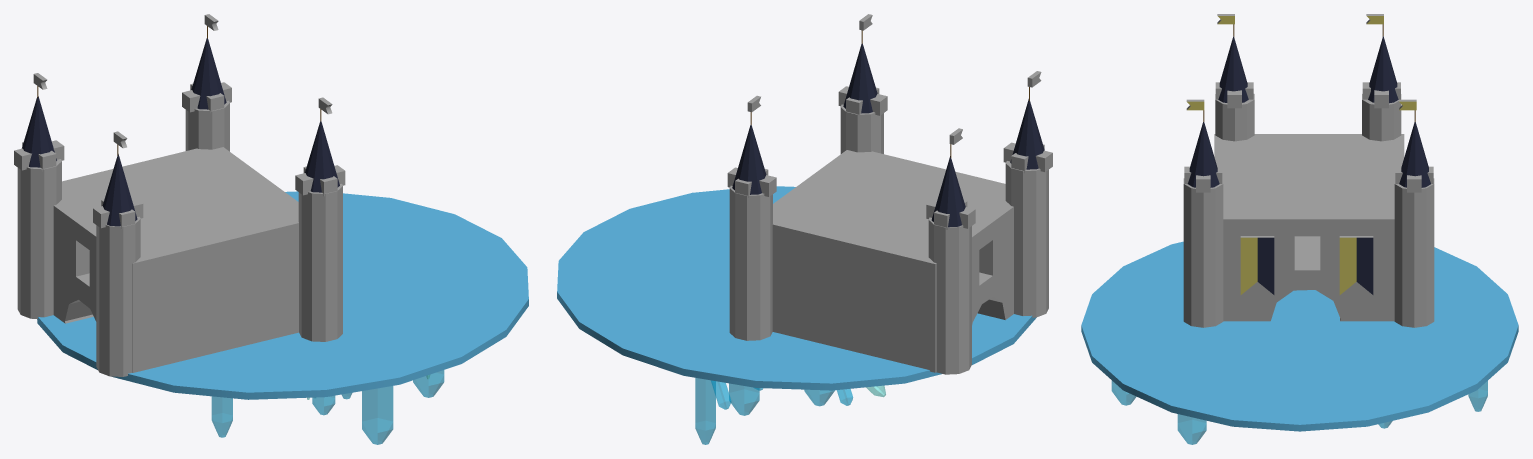
File: Castle.fbx
3 renders of one model, left to right at view 1: azimuth 30°, elevation 25°; view 2: azimuth 150°, elevation 25°; view 3: azimuth 270°, elevation 25°, orthographic. The views are drawn at different scales.
Visible parts, largest first — view 1: pCylinder277, pCube91, pCylinder290, pCylinder295, pCylinder296, pCylinder291, pCylinder231, pCone7, pCone5, pCone6, pCone8, pCylinder232 (+1 smaller); view 2: pCube91, pCylinder277, pCylinder291, pCylinder296, pCylinder295, pCylinder290, pCylinder230, pCone8, pCone6, pCone5, pCone7, pCylinder229; view 3: pCylinder277, pCube91, pCylinder290, pCylinder291, pCube108, pCube109, pCylinder295, pCylinder296, pCone5, pCone6, pCone7, pCone8 (+1 smaller).
Boxes of the visible parts, x1,y1,x2,y2 form: pCylinder277: (37,191,528,399); pCube91: (53,147,298,372); pCylinder290: (298,184,342,341); pCylinder295: (96,216,140,376); pCylinder296: (17,159,61,318); pCylinder291: (185,100,229,151); pCylinder231: (362,386,393,444); pCone7: (102,154,137,226); pCone5: (305,121,339,192); pCone6: (191,38,226,109); pCone8: (22,96,56,167); pCylinder232: (211,396,232,437); pCube91: (772,150,1013,372); pCylinder277: (557,186,1036,390); pCylinder291: (729,185,772,340); pCylinder296: (928,217,971,374); pCylinder295: (1005,161,1048,317); pCylinder290: (840,104,883,153); pCylinder230: (695,378,715,444); pCone8: (931,156,965,227); pCone6: (732,125,766,194); pCone5: (843,43,877,113); pCone7: (1010,99,1044,169); pCylinder229: (729,383,759,415); pCylinder277: (1081,241,1518,431); pCube91: (1214,134,1404,321); pCylinder290: (1183,178,1223,327); pCylinder291: (1394,178,1434,327); pCube108: (1240,236,1274,294); pCube109: (1339,236,1373,294); pCylinder295: (1215,94,1254,141); pCylinder296: (1362,94,1401,141); pCone5: (1187,122,1219,187); pCone6: (1399,122,1430,187); pCone7: (1218,36,1248,102); pCone8: (1368,36,1398,103).
Size of the model in its own units: 8.72 by 6.18 by 8.05.
